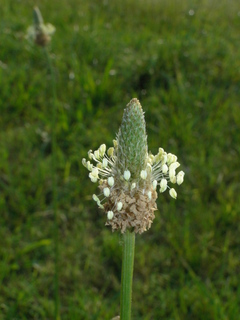buckhorn plantain: (71, 91, 195, 314)
